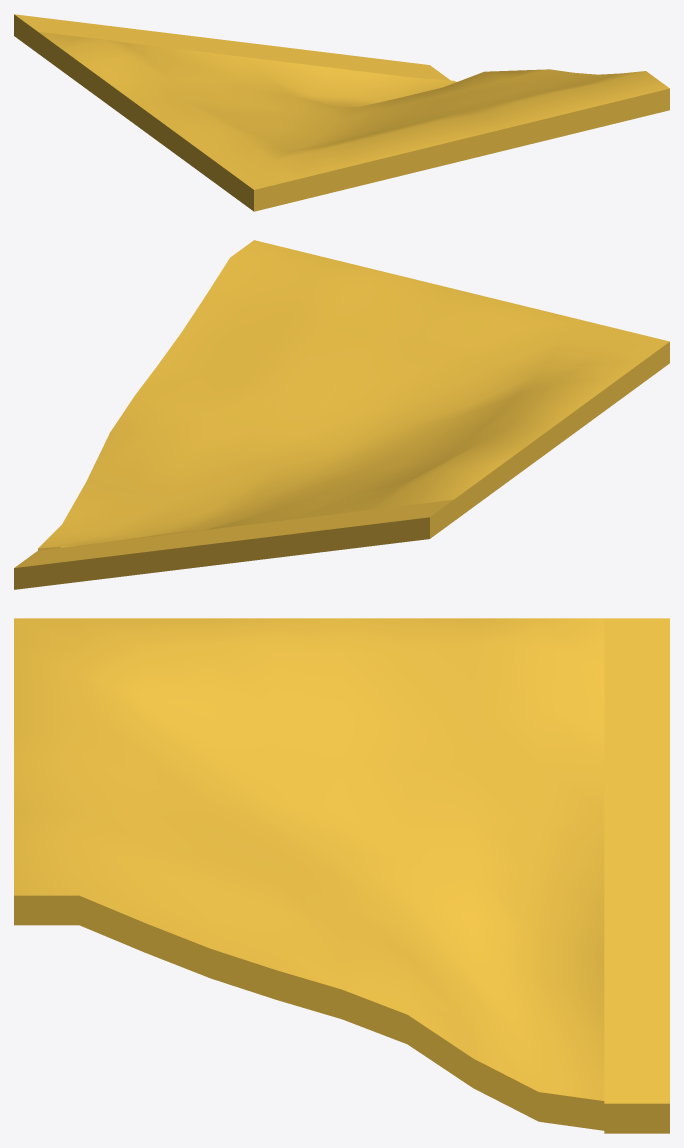
The model's file is Flach - Mitte - Ecke Invertiert a - x.fbx.
3 views of the same model, one above another, from view 1: azimuth 30°, elevation 25°; view 2: azimuth 150°, elevation 25°; view 3: azimuth 270°, elevation 25° (orthographic). The views are drawn at different scales.
Parts seen in each view (by area): view 1: Flach - Mitte - Ecke Invertiert a - x; view 2: Flach - Mitte - Ecke Invertiert a - x; view 3: Flach - Mitte - Ecke Invertiert a - x.
Part boxes in pixels (bbox=[...]): Flach - Mitte - Ecke Invertiert a - x: bbox=[14, 14, 669, 211]; Flach - Mitte - Ecke Invertiert a - x: bbox=[14, 240, 669, 589]; Flach - Mitte - Ecke Invertiert a - x: bbox=[14, 618, 669, 1133].
Size of the model in its own units: 394 by 157 by 394.
